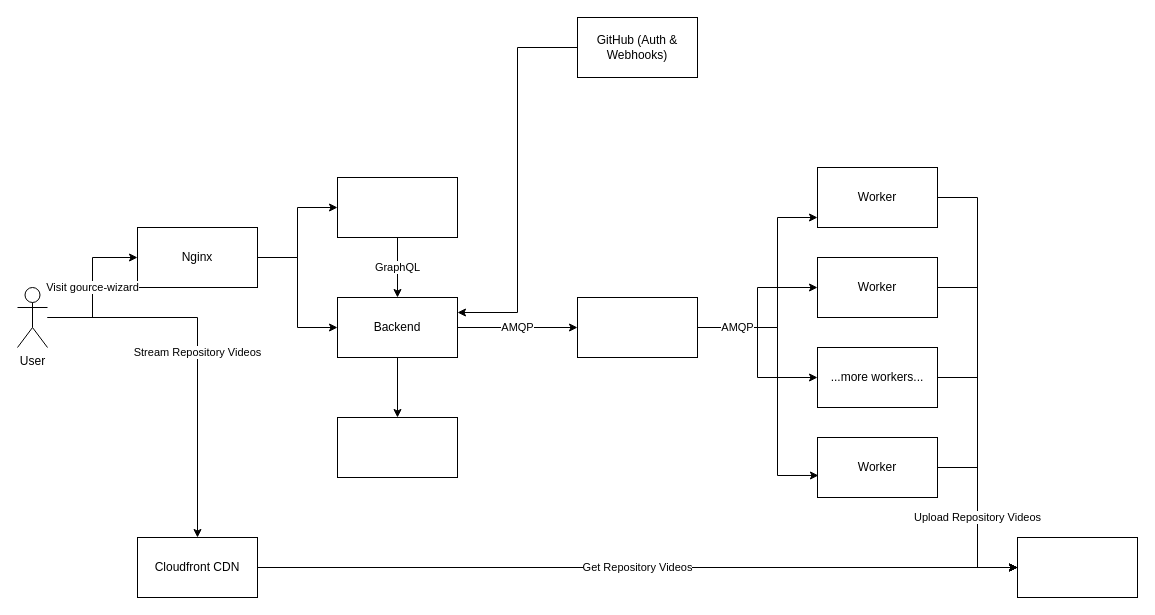
Some shapes in this 1155 by 615 pixel diagram are drawn without their labels. The shapes that lost their labels are listed below. From the top down, each one's centre as x and y in pixels, then its label:
[397,207]: Frontend
[637,327]: RabbitMQ
[397,447]: MongoDB
[1077,567]: S3 Bucket
